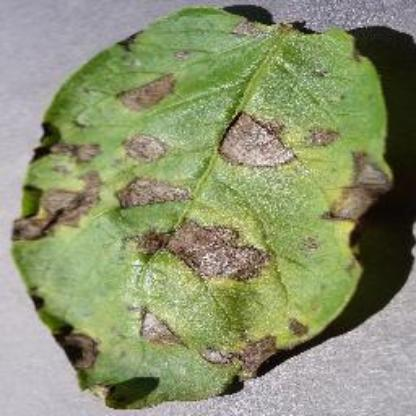Early-Blight: (11, 12, 382, 410)
